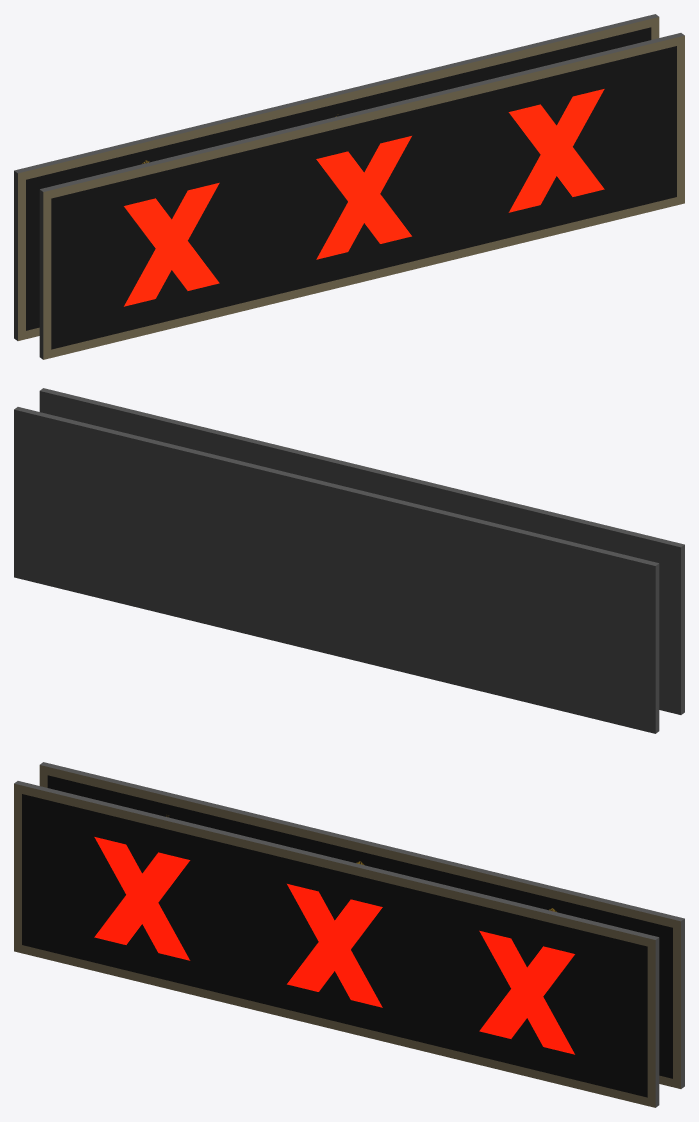
The model's file is signs.glb.
The picture shows the model from 3 angles, top to bottom: view 1: azimuth 30°, elevation 25°; view 2: azimuth 150°, elevation 25°; view 3: azimuth 330°, elevation 25°; orthographic projection.
Parts seen in each view (by area): view 1: SignWrongWay, SignArrowRight, SignArrowUp, SignWarning; view 2: SignWarning, SignArrowRight, SignArrowUp, SignWrongWay; view 3: SignWrongWay, SignArrowRight, SignArrowUp, SignWarning.
Boxes of the visible parts, box(x1,y1,x2,y2) form: SignWrongWay: box(39, 33, 684, 359); SignArrowRight: box(14, 14, 659, 340); SignArrowUp: box(14, 14, 659, 340); SignWarning: box(15, 15, 658, 340); SignWarning: box(14, 407, 657, 733); SignArrowRight: box(14, 407, 659, 733); SignArrowUp: box(14, 407, 659, 732); SignWrongWay: box(39, 388, 684, 714); SignWrongWay: box(14, 781, 659, 1107); SignArrowRight: box(39, 762, 684, 1088); SignArrowUp: box(39, 762, 684, 1088); SignWarning: box(40, 763, 684, 1088).
Bounding box in the file's own units: 20 × 5 × 1.59.
